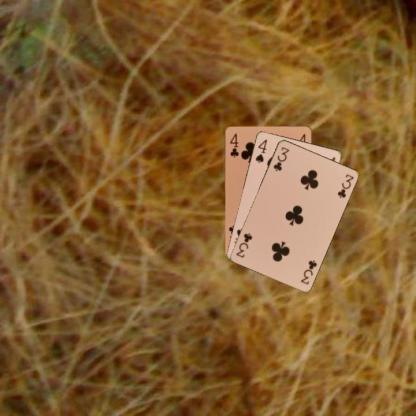3c: (298, 257, 318, 286), (270, 144, 290, 172)
4c: (227, 130, 240, 159)
4s: (253, 136, 268, 164)
